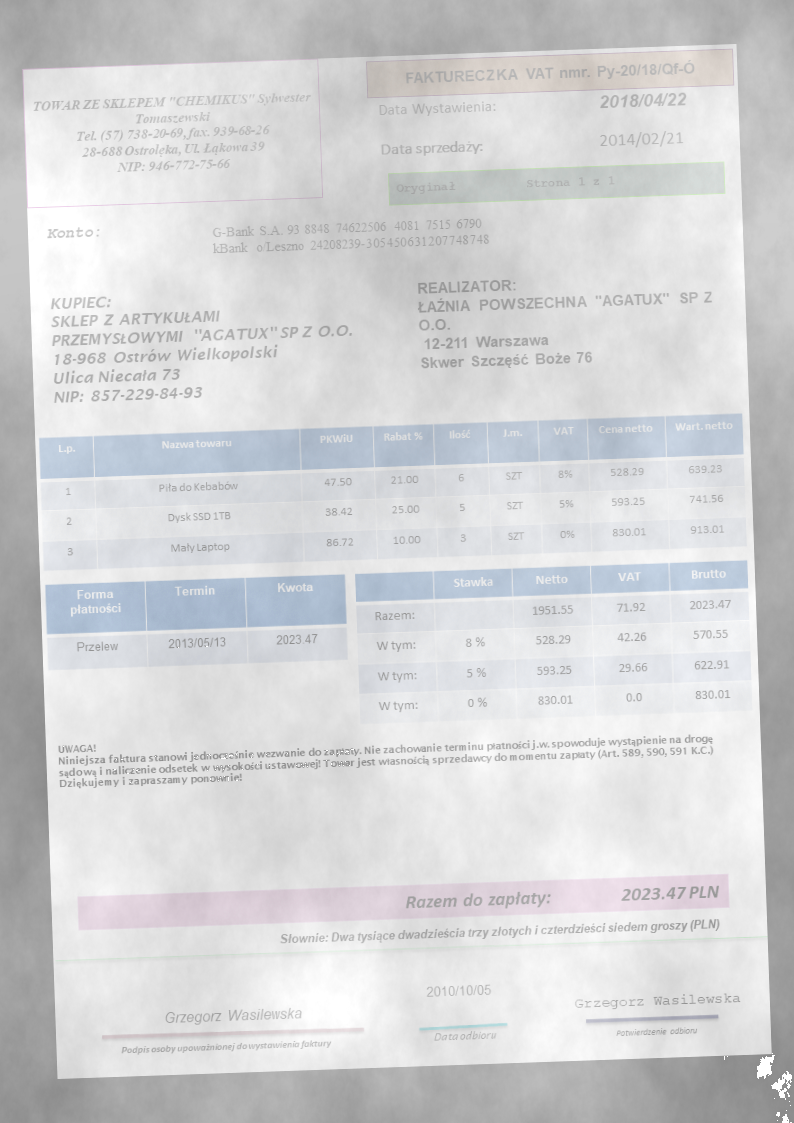Table: (37, 412, 749, 572), (353, 558, 754, 724), (44, 574, 348, 671)
TextBox: (55, 717, 717, 793), (45, 283, 359, 407), (414, 268, 718, 374), (30, 86, 315, 180), (277, 913, 726, 950), (207, 213, 491, 260), (399, 877, 723, 916), (400, 57, 696, 86), (394, 171, 616, 197), (117, 1033, 335, 1058), (570, 988, 742, 1012), (161, 1000, 305, 1028), (376, 96, 498, 120), (378, 136, 486, 160), (594, 87, 689, 114), (596, 127, 687, 152), (612, 1021, 701, 1042), (422, 979, 493, 1001), (43, 222, 101, 242), (431, 1026, 499, 1043)
